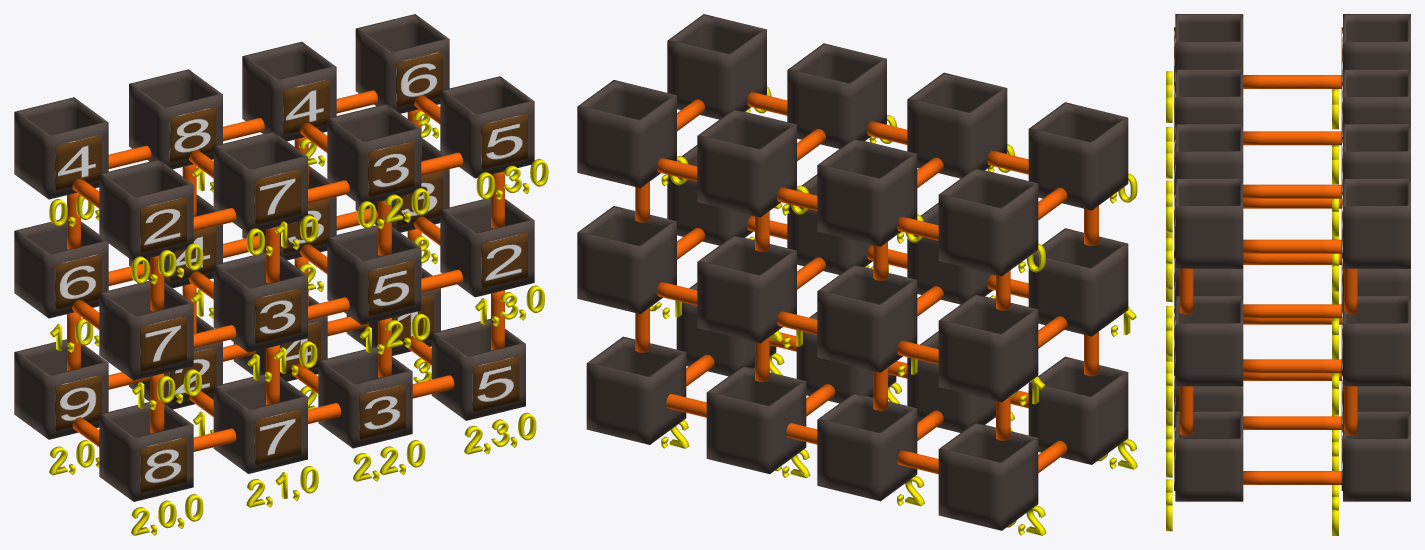
Rendered from 3darray.glb.
The picture shows the model from 3 angles, left to right: view 1: azimuth 30°, elevation 25°; view 2: azimuth 150°, elevation 25°; view 3: azimuth 270°, elevation 25°; orthographic projection. The views are drawn at different scales.
Parts seen in each view (by area): view 1: Box01, Box03, Box07, Box26, Box06, Box16, Box24, Box32, Box29, Box27, Box11, Box15 (+72 smaller); view 2: Box26, Box40, Box48, Box27, Box32, Box29, Box33, Box01, Box38, Box35, Box43, Box41 (+16 smaller); view 3: Box07, Box29, Box13, Box35, Box19, Box43, Box06, Box32, Box01, Box03, Box26, Box27 (+29 smaller).
Boxes of the visible parts, x1,y1,x2,y2 form: Box01: [99, 159, 193, 260]; Box03: [213, 131, 307, 233]; Box07: [440, 76, 534, 178]; Box26: [14, 97, 108, 199]; Box06: [327, 104, 421, 204]; Box16: [99, 280, 193, 380]; Box24: [99, 402, 193, 501]; Box32: [242, 41, 336, 141]; Box29: [355, 14, 449, 113]; Box27: [129, 69, 222, 169]; Box11: [213, 252, 307, 352]; Box15: [327, 225, 421, 324]; Box26: [938, 168, 1038, 276]; Box40: [938, 294, 1038, 402]; Box48: [938, 422, 1038, 530]; Box27: [817, 138, 917, 246]; Box32: [697, 109, 796, 217]; Box29: [577, 80, 676, 188]; Box33: [817, 264, 917, 372]; Box01: [1028, 102, 1128, 210]; Box38: [697, 235, 796, 343]; Box35: [577, 206, 676, 314]; Box43: [586, 336, 686, 444]; Box41: [817, 393, 917, 501]; Box07: [1175, 178, 1243, 268]; Box29: [1343, 178, 1410, 268]; Box13: [1175, 295, 1243, 386]; Box35: [1343, 295, 1410, 386]; Box19: [1175, 411, 1243, 501]; Box43: [1343, 411, 1410, 501]; Box06: [1175, 123, 1243, 178]; Box32: [1343, 123, 1410, 178]; Box01: [1175, 14, 1243, 68]; Box03: [1175, 69, 1243, 123]; Box26: [1343, 14, 1410, 68]; Box27: [1343, 69, 1410, 123].
Bounding box in the file's own units: 69.3 × 54.15 × 35.97.
Materials: 12 (12 with a texture image).
